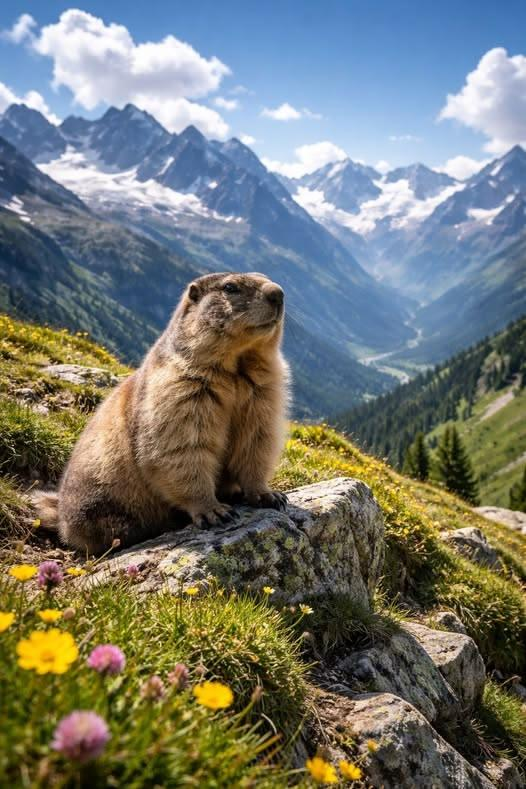hamster: (39, 273, 287, 553)
